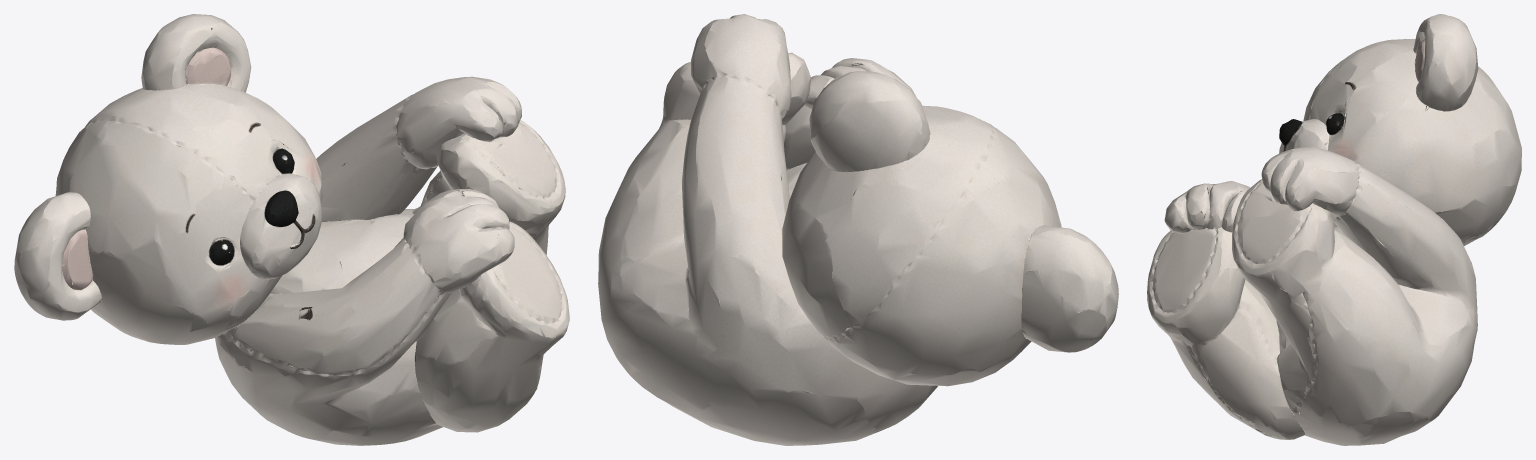
Rendered from teddy_reclining.glb.
The picture shows the model from 3 angles, left to right: view 1: azimuth 30°, elevation 25°; view 2: azimuth 150°, elevation 25°; view 3: azimuth 270°, elevation 25°; orthographic projection. The views are drawn at different scales.
Visible parts, largest first — view 1: teddy_reclining; view 2: teddy_reclining; view 3: teddy_reclining.
Boxes of the visible parts, x1,y1,x2,y2 form: teddy_reclining: [14, 14, 569, 445]; teddy_reclining: [598, 14, 1118, 445]; teddy_reclining: [1147, 14, 1521, 445].
Bounding box in the file's own units: 1 × 0.7816 × 0.7522.
1 material, 1 textured.
